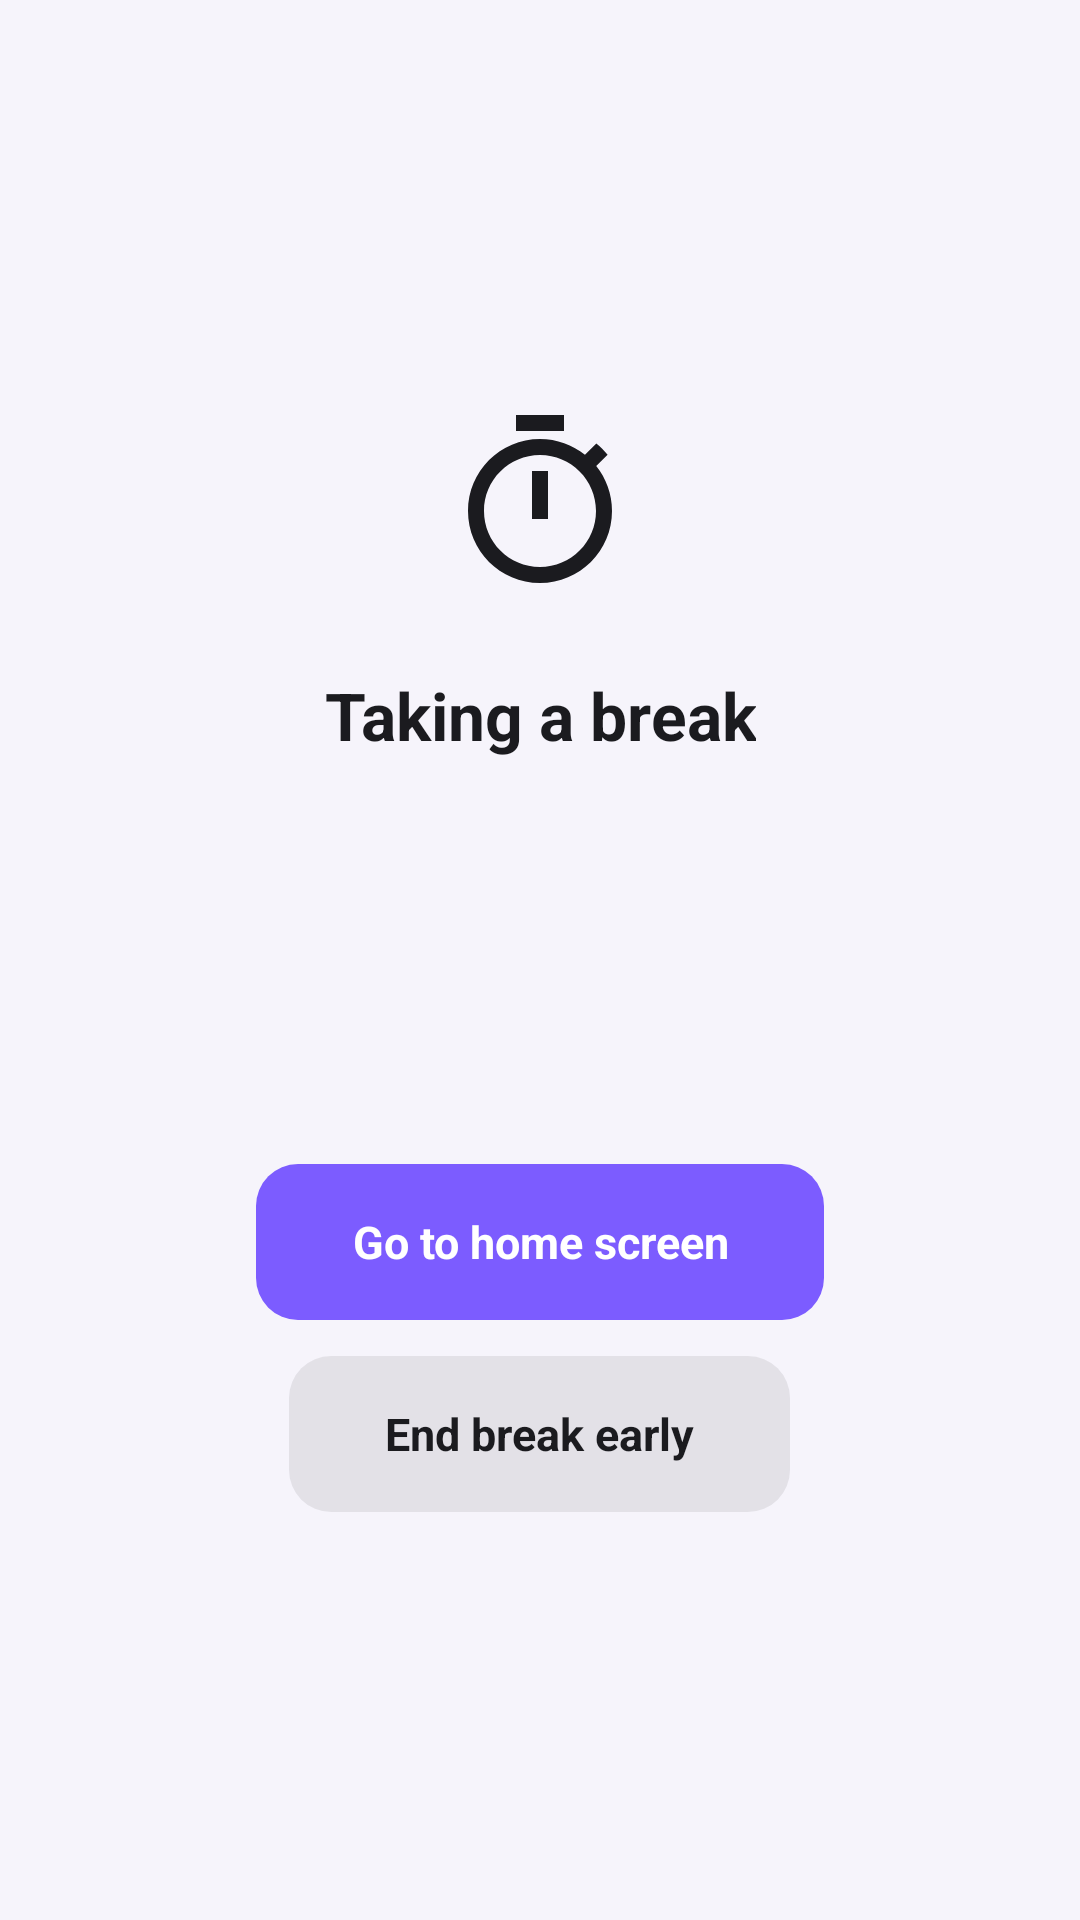

Where to tap for icons on this 1080*1920 app screen, as [x,y]:
stopwatch: [540,499]
